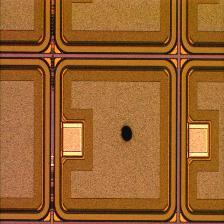PARTICLE: (118, 125, 138, 145)
